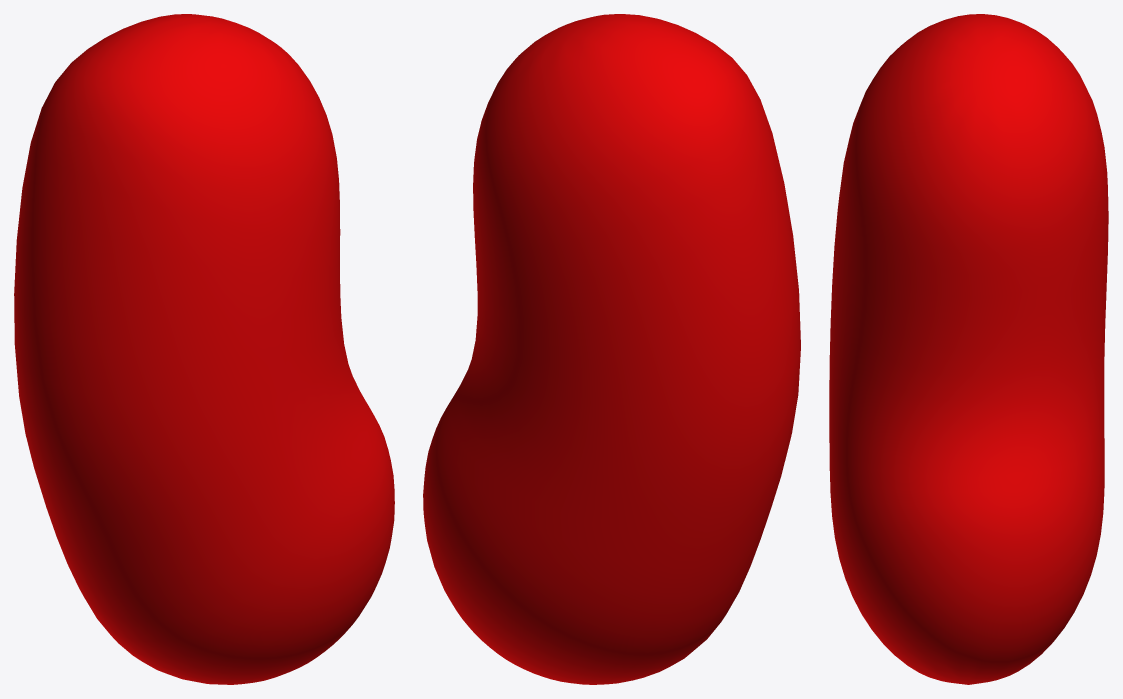
File: kirmiziseker1.fbx
3 renders of one model, left to right at view 1: azimuth 30°, elevation 25°; view 2: azimuth 150°, elevation 25°; view 3: azimuth 270°, elevation 25°, orthographic. The views are drawn at different scales.
Parts seen in each view (by area): view 1: kirmiziseker; view 2: kirmiziseker; view 3: kirmiziseker.
Part boxes in pixels (left/top/right/bottom): kirmiziseker: left=14, top=14, right=394, bottom=684; kirmiziseker: left=423, top=14, right=800, bottom=684; kirmiziseker: left=829, top=14, right=1108, bottom=684.
Size of the model in its own units: 40.82 by 74.55 by 30.55.
